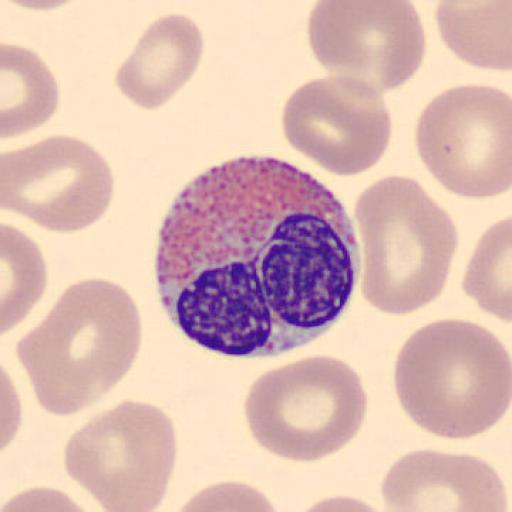RBC: (17, 277, 142, 418), (350, 173, 459, 318), (392, 315, 512, 441), (242, 354, 370, 464), (63, 398, 179, 512), (280, 72, 394, 178), (2, 133, 116, 235), (306, 0, 428, 95), (413, 83, 511, 201), (114, 12, 206, 112), (379, 447, 510, 512), (1, 42, 60, 142), (434, 0, 512, 72), (462, 214, 512, 323), (2, 222, 48, 334), (171, 478, 286, 512), (1, 484, 101, 512), (0, 365, 24, 456), (290, 492, 396, 512), (1, 0, 83, 11)
WBC: (154, 155, 361, 358)
